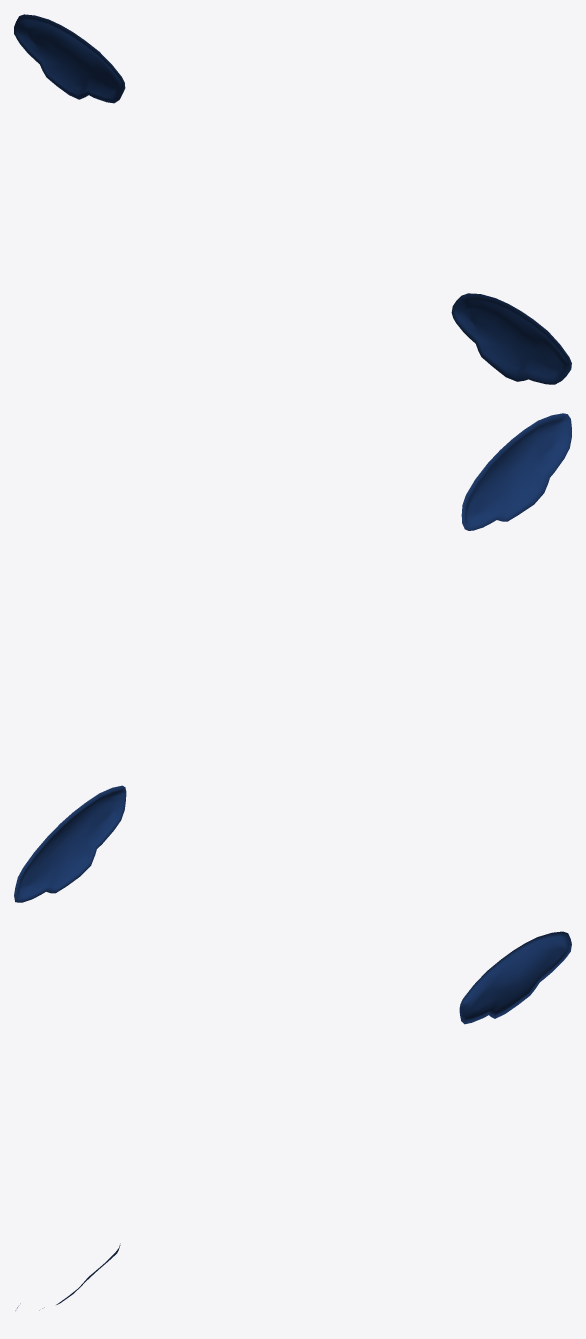
File: L_cavity.glb
The picture shows the model from 3 angles, top to bottom: view 1: azimuth 30°, elevation 25°; view 2: azimuth 150°, elevation 25°; view 3: azimuth 330°, elevation 25°; orthographic projection. The views are drawn at different scales.
Parts seen in each view (by area): view 1: L_cavity; view 2: L_cavity; view 3: L_cavity.
Part boxes in pixels (box(x1,y1,x2,y2)): L_cavity: box(14, 14, 571, 384); L_cavity: box(14, 413, 571, 902); L_cavity: box(15, 931, 571, 1310).
Bounding box in the file's own units: 0.0371 × 0.1354 × 1.41.
